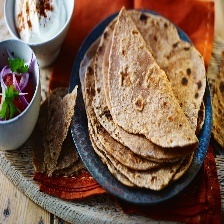roti: (76, 5, 213, 195)
